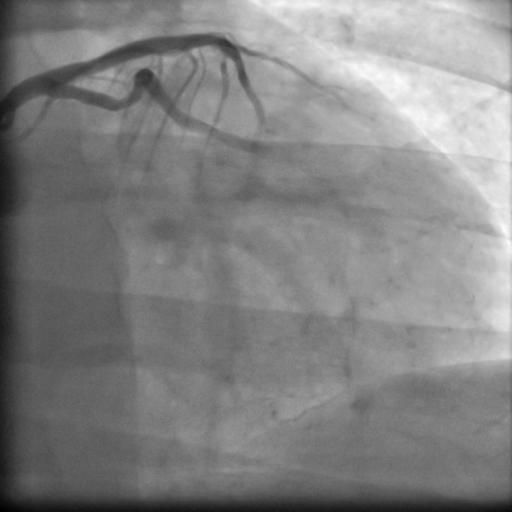Stenosis: (112, 93, 128, 110)
